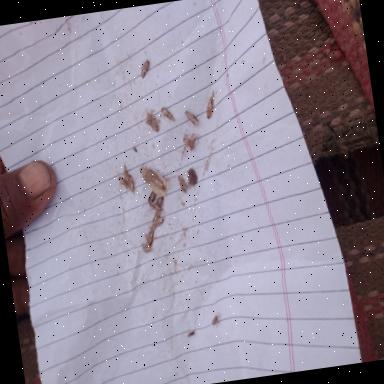pbw: (202, 89, 219, 118), (144, 109, 160, 132), (184, 107, 199, 128), (138, 58, 152, 78), (207, 311, 223, 328), (160, 105, 174, 123), (114, 174, 128, 190), (145, 226, 156, 246), (126, 173, 136, 194), (148, 200, 162, 214), (150, 216, 164, 228), (122, 164, 130, 184), (154, 195, 166, 207), (146, 189, 156, 202), (151, 211, 161, 222), (142, 244, 152, 253)
